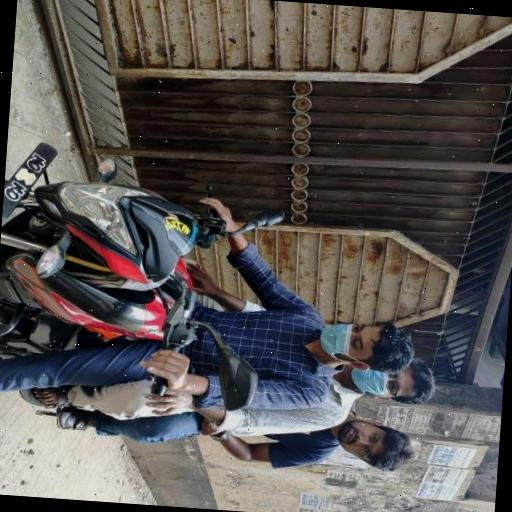no helmet: (316, 285, 425, 384)
triple riding: (162, 49, 512, 512)
